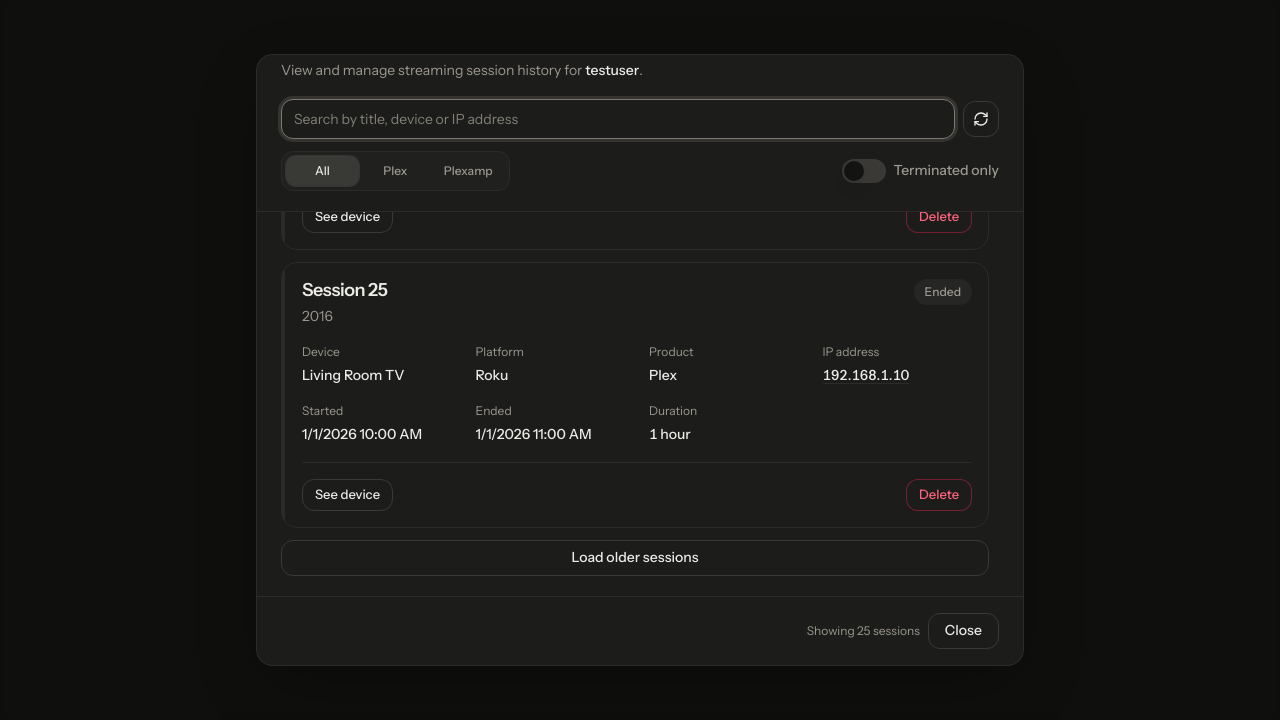
Scenario: UserHistoryModal paging › stops offering more when the next page fails
The width and height of the screenshot is (1280, 720).
(page scrolled)
Click the button "Load older sessions" at coordinates (635, 558), box [281,540,989,576]
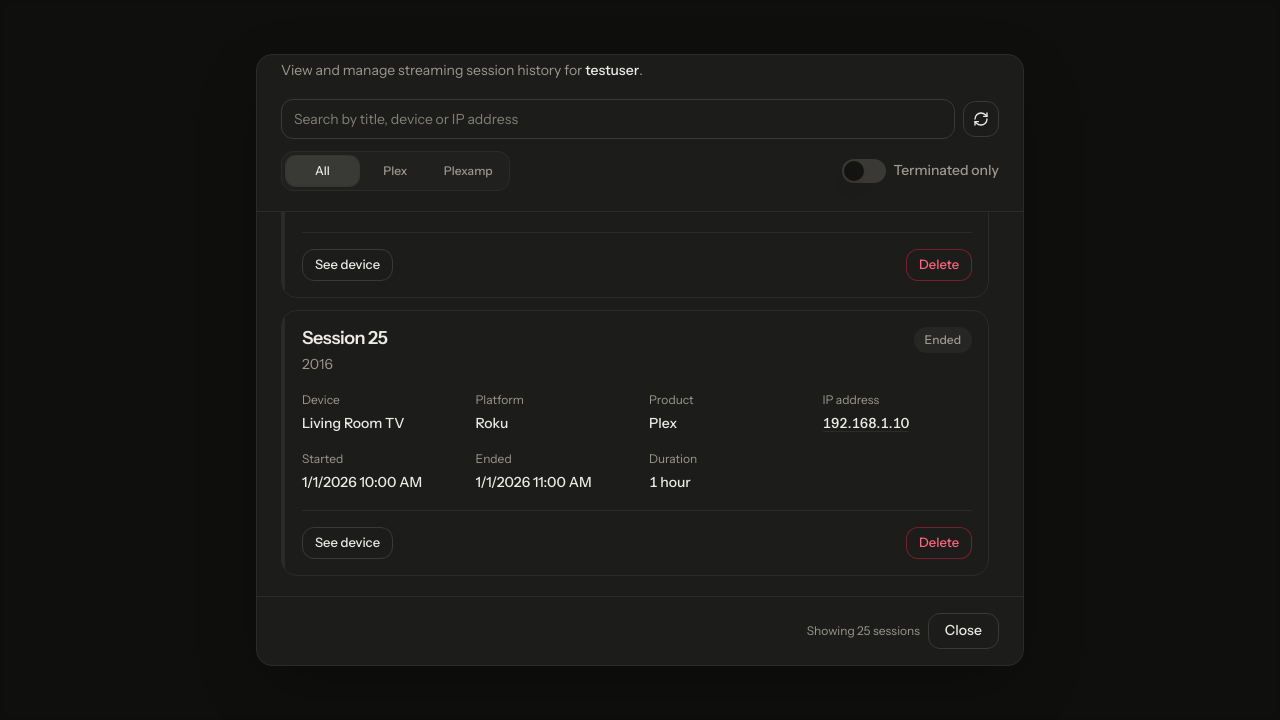
Result: the button "Load older sessions" is gone
